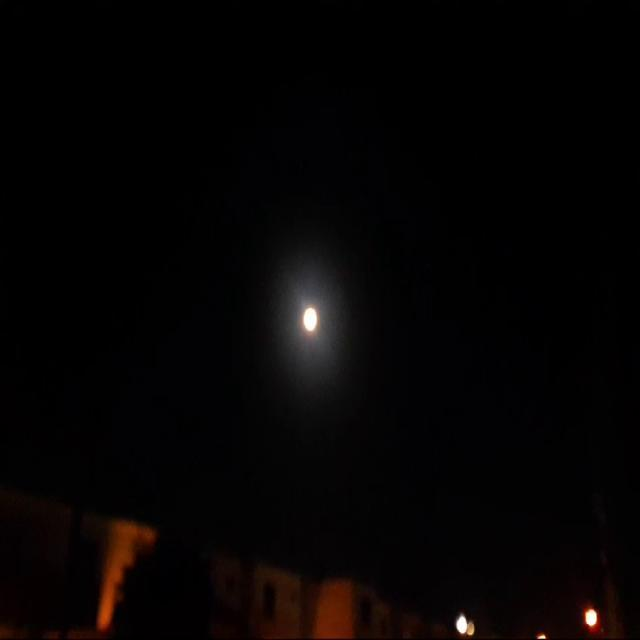moon: (299, 304, 316, 338)
